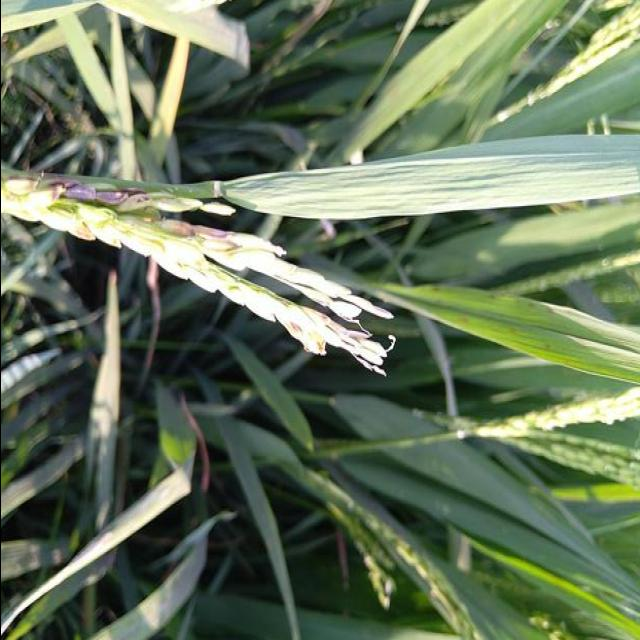Panicle Blight: (219, 280, 394, 376), (4, 177, 174, 207), (154, 217, 241, 246), (56, 224, 95, 240)
